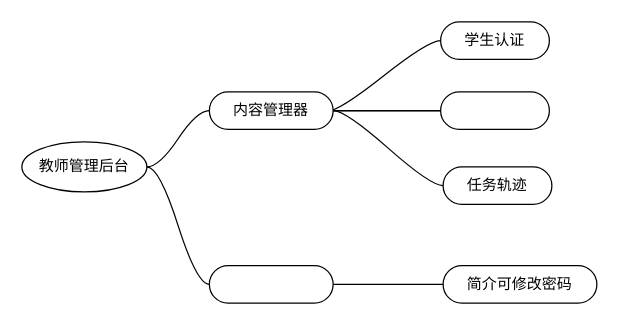
Image size: 619x325. Some labels were removed from this diagram. The shapes that lost their labels are listed below. From the top down, each one's centre as x and y in pixels, then its label:
the point at 494,110: 学生任务
the point at 270,283: 左下角头像
